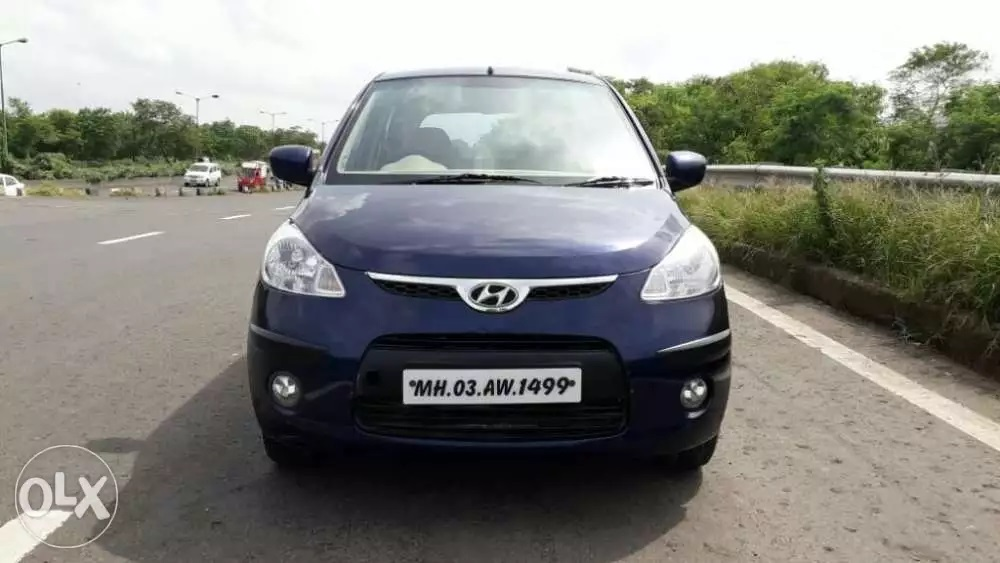licenseplate: (403, 367, 588, 406)
